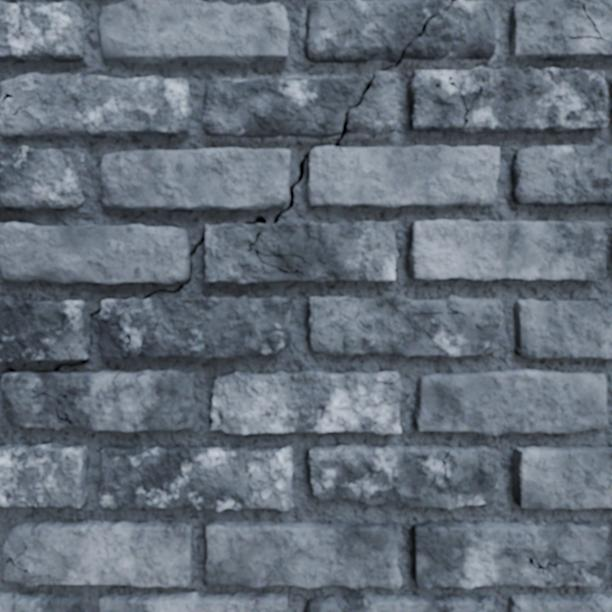brick: (413, 521, 607, 589), (206, 521, 400, 588), (408, 67, 607, 132), (98, 445, 292, 510), (415, 369, 606, 434), (3, 521, 192, 586), (308, 444, 497, 509), (0, 73, 190, 137), (0, 369, 196, 431), (306, 295, 503, 356), (211, 371, 401, 434), (204, 221, 397, 283), (99, 0, 288, 63), (98, 296, 290, 358), (409, 220, 605, 280), (306, 146, 498, 207), (101, 148, 289, 209), (0, 223, 188, 283), (510, 0, 611, 61), (512, 144, 611, 205), (514, 447, 611, 509), (515, 298, 611, 358), (0, 444, 86, 507), (0, 300, 88, 360), (0, 147, 84, 209), (0, 1, 84, 62), (305, 592, 494, 611), (100, 592, 286, 611), (509, 593, 611, 611), (0, 593, 81, 611)
broken_brick: (202, 70, 398, 138), (304, 0, 496, 64)
crack: (244, 152, 309, 225), (143, 231, 206, 299), (353, 42, 411, 108), (53, 307, 101, 372), (568, 2, 611, 43), (110, 314, 131, 358), (137, 320, 158, 356), (20, 564, 54, 583), (333, 110, 349, 147), (0, 366, 16, 382), (0, 92, 13, 104), (446, 0, 457, 8), (597, 235, 605, 242), (122, 297, 130, 300), (39, 370, 47, 372)
